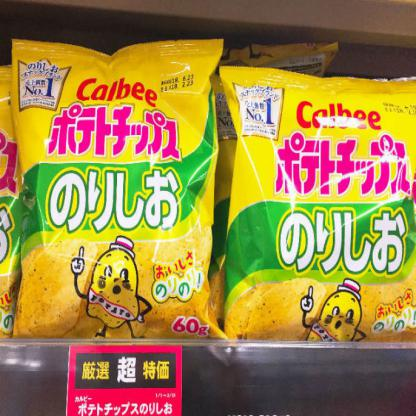potatochip: (9, 30, 233, 373), (213, 53, 415, 370), (0, 56, 85, 381)
